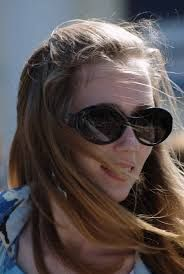no-mask: (59, 51, 180, 204)
